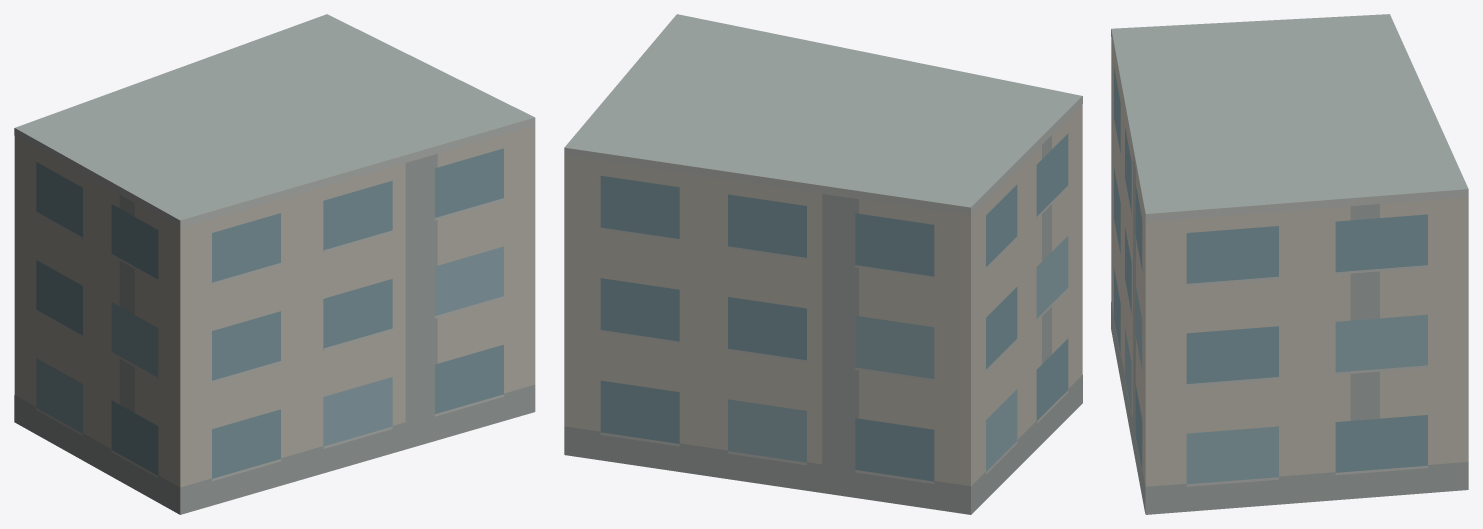
The model's file is residential-5dc7562e-022f-4f56-90ec-6749d574b0ca.glb.
3 renders of one model, left to right at view 1: azimuth 30°, elevation 25°; view 2: azimuth 150°, elevation 25°; view 3: azimuth 270°, elevation 25°, orthographic. The views are drawn at different scales.
Visible parts, largest first — view 1: residential-5dc7562e-022f-4f56-90ec-6749d574b0ca.tmp; view 2: residential-5dc7562e-022f-4f56-90ec-6749d574b0ca.tmp; view 3: residential-5dc7562e-022f-4f56-90ec-6749d574b0ca.tmp.
Part boxes in pixels (left/top/right/bottom): residential-5dc7562e-022f-4f56-90ec-6749d574b0ca.tmp: left=14, top=14, right=535, bottom=514; residential-5dc7562e-022f-4f56-90ec-6749d574b0ca.tmp: left=564, top=14, right=1082, bottom=514; residential-5dc7562e-022f-4f56-90ec-6749d574b0ca.tmp: left=1111, top=14, right=1468, bottom=514.
Size of the model in its own units: 13.06 by 9.15 by 9.86.
